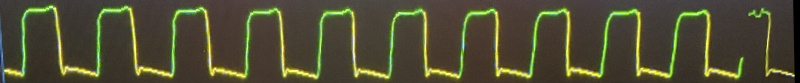normal_pressure: (0, 5, 745, 83)
